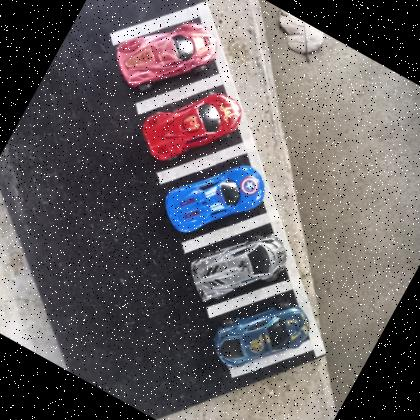Car: (178, 205, 297, 329), (154, 138, 274, 260), (131, 66, 250, 188), (102, 0, 225, 116), (204, 278, 319, 394)
